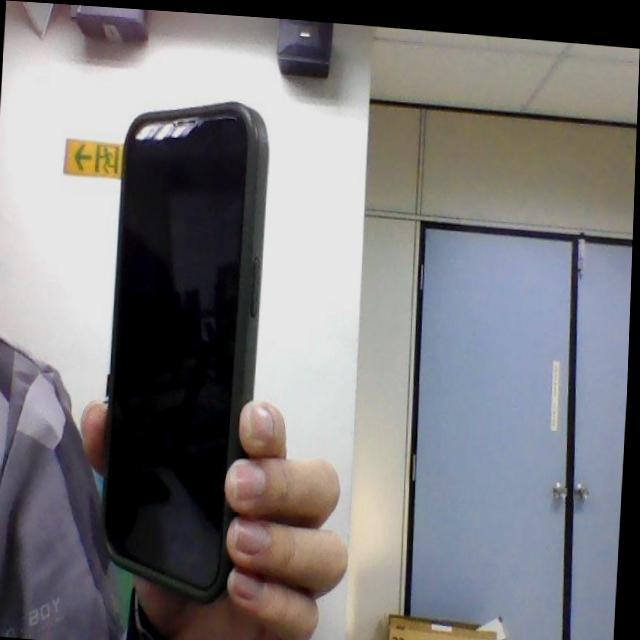Smartphone: (94, 89, 282, 616)
